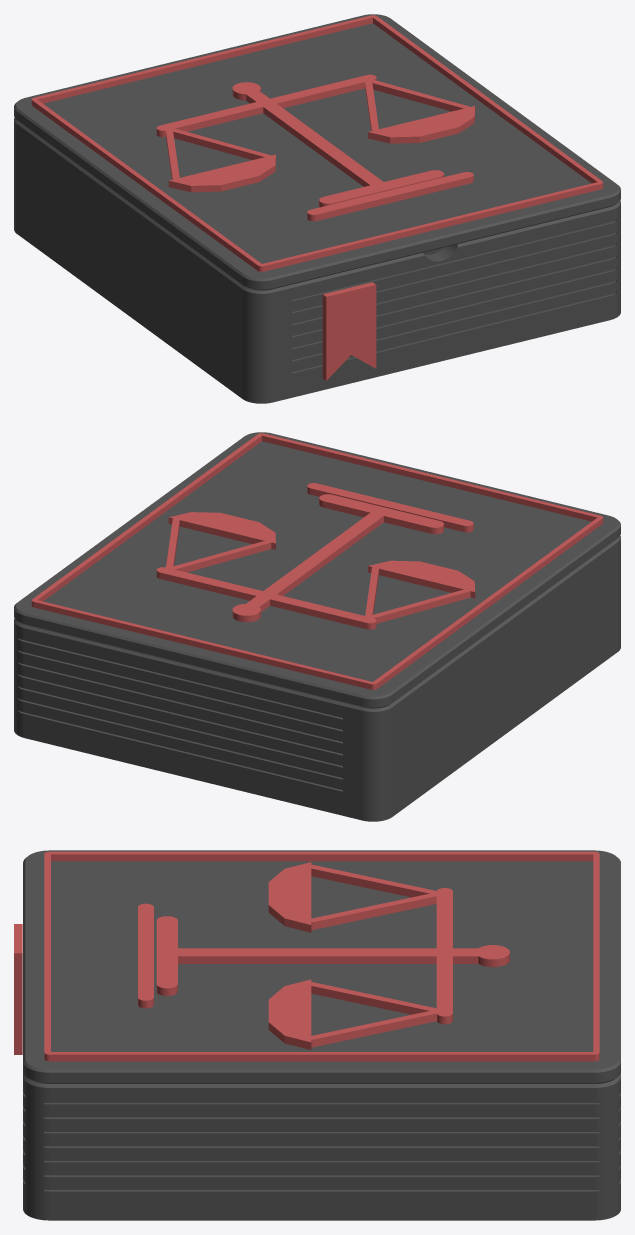
Rendered from giurisprudenza-montato.glb.
3 renders of one model, top to bottom at view 1: azimuth 30°, elevation 25°; view 2: azimuth 150°, elevation 25°; view 3: azimuth 270°, elevation 25°, orthographic. The views are drawn at different scales.
Parts seen in each view (by area): view 1: 02_copertina, 01_libro_vaschetta, 04_bilancia_02, 03_cornice, 05_segnalibro, 04_bilancia_01; view 2: 02_copertina, 01_libro_vaschetta, 04_bilancia_02, 03_cornice, 04_bilancia_01; view 3: 02_copertina, 01_libro_vaschetta, 04_bilancia_02, 03_cornice, 04_bilancia_01, 05_segnalibro.
Boxes of the visible parts, x1=… form: 02_copertina: x1=14, y1=14, x2=620, y2=290; 01_libro_vaschetta: x1=14, y1=117, x2=620, y2=403; 04_bilancia_02: x1=156, y1=74, x2=475, y2=207; 03_cornice: x1=31, y1=15, x2=603, y2=271; 05_segnalibro: x1=322, y1=282, x2=376, y2=380; 04_bilancia_01: x1=307, y1=172, x2=473, y2=221; 02_copertina: x1=14, y1=432, x2=620, y2=708; 01_libro_vaschetta: x1=14, y1=535, x2=620, y2=821; 04_bilancia_02: x1=156, y1=494, x2=475, y2=629; 03_cornice: x1=31, y1=433, x2=603, y2=689; 04_bilancia_01: x1=307, y1=483, x2=473, y2=532; 02_copertina: x1=23, y1=850, x2=620, y2=1083; 01_libro_vaschetta: x1=23, y1=1072, x2=620, y2=1220; 04_bilancia_02: x1=156, y1=862, x2=509, y2=1049; 03_cornice: x1=44, y1=851, x2=599, y2=1061; 04_bilancia_01: x1=138, y1=903, x2=153, y2=1008; 05_segnalibro: x1=14, y1=924, x2=22, y2=1054.
Size of the model in its own units: 0.098 by 0.0326 by 0.1137.
